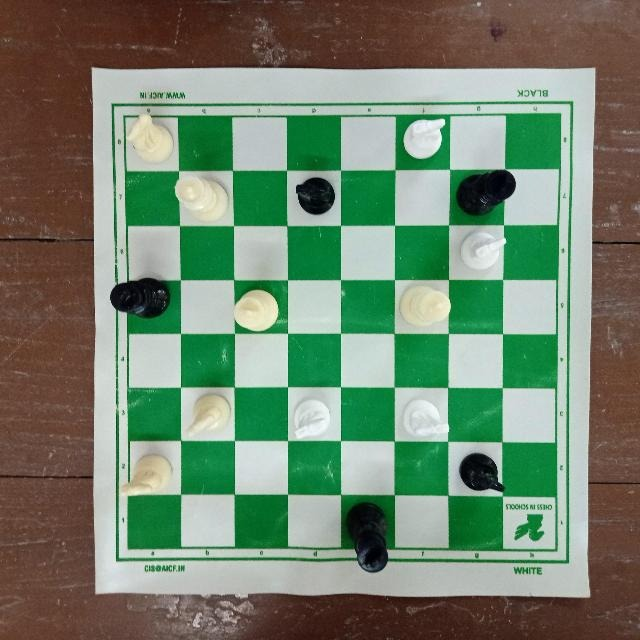black-king: (343, 498, 394, 579), (109, 273, 177, 323), (457, 169, 517, 217)
black-knight: (455, 449, 509, 501), (290, 173, 339, 220)
white-king: (396, 281, 452, 330), (229, 287, 282, 335)
white-knight: (123, 107, 177, 167), (116, 445, 174, 500), (182, 394, 236, 444), (456, 224, 508, 274), (285, 394, 335, 446), (400, 111, 448, 163), (400, 394, 448, 442)
white-queen: (175, 173, 233, 225)
